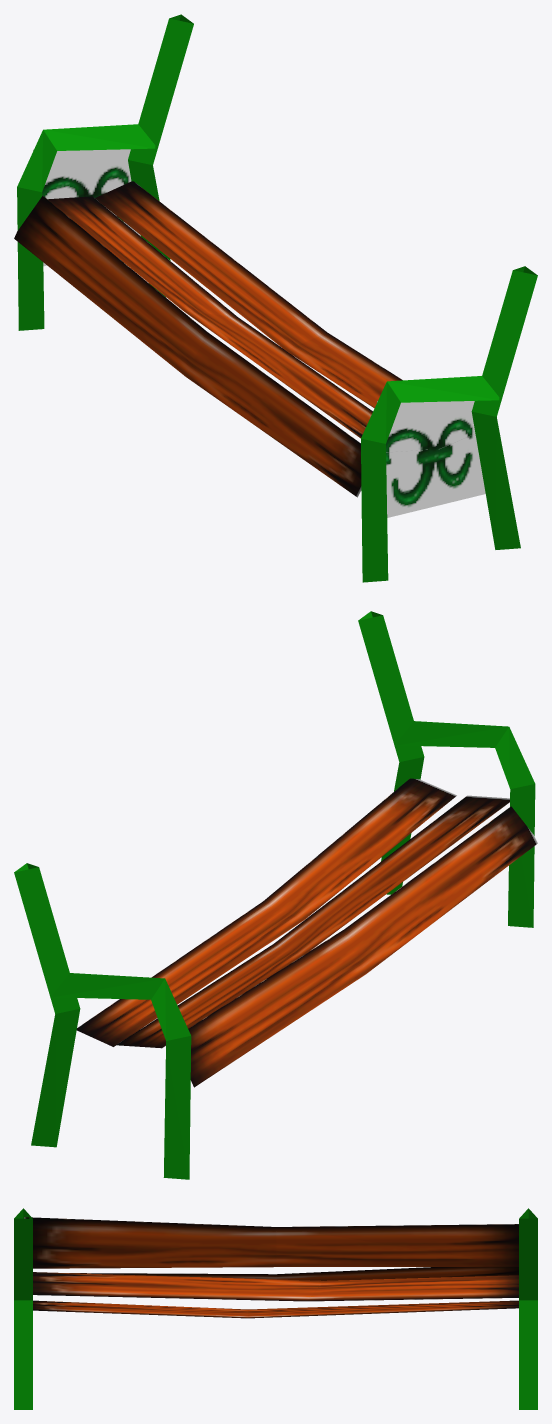
File: Parkbank_32.glb
3 views of the same model, one above another, from view 1: azimuth 30°, elevation 25°; view 2: azimuth 150°, elevation 25°; view 3: azimuth 270°, elevation 25° (orthographic). The views are drawn at different scales.
Parts seen in each view (by area): view 1: pPlaneShape200, pPlaneShape198, pPlaneShape199, pPlaneShape202, pCylinderShape37, pCylinderShape36, pCylinderShape39, pCylinderShape38, pPlaneShape197; view 2: pPlaneShape200, pPlaneShape198, pPlaneShape199, pCylinderShape39, pCylinderShape38, pCylinderShape37, pCylinderShape36; view 3: pPlaneShape201, pPlaneShape199, pPlaneShape198, pCylinderShape36, pCylinderShape38, pPlaneShape200.
Part boxes in pixels (x1,y1,x2,y2): pPlaneShape200: (14,195,361,497); pPlaneShape198: (95,181,473,449); pPlaneShape199: (48,196,427,452); pPlaneShape202: (377,375,485,517); pCylinderShape37: (361,376,499,582); pCylinderShape36: (471,266,537,549); pCylinderShape39: (17,124,155,330); pCylinderShape38: (128,14,193,297); pPlaneShape197: (33,149,140,266); pPlaneShape200: (188,806,537,1087); pPlaneShape198: (76,778,456,1046); pPlaneShape199: (116,795,509,1048); pCylinderShape39: (52,973,191,1179); pCylinderShape38: (14,863,80,1147); pCylinderShape37: (397,721,535,927); pCylinderShape36: (358,611,424,894); pPlaneShape201: (24,1217,518,1268); pPlaneShape199: (33,1272,518,1301); pPlaneShape198: (33,1300,518,1318); pCylinderShape36: (14,1208,32,1409); pCylinderShape38: (519,1208,537,1409); pPlaneShape200: (69,1267,518,1280).
Size of the model in its own units: 0.0952 by 0.1445 by 0.3388.
Materials: 10 (6 with a texture image).
